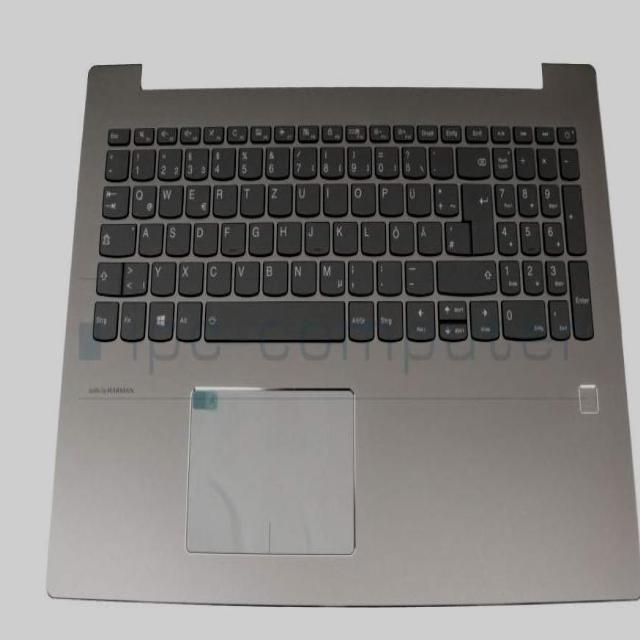0: (373, 144, 398, 177)
1: (130, 146, 155, 179)
2: (156, 146, 181, 179)
3: (183, 146, 208, 179)
4: (210, 145, 235, 179)
5: (237, 145, 262, 178)
6: (264, 145, 289, 178)
7: (291, 144, 316, 177)
8: (318, 144, 343, 177)
9: (345, 144, 371, 177)
a: (138, 219, 163, 255)
accent: (428, 144, 453, 177)
ae: (415, 218, 442, 254)
alt-left: (175, 298, 202, 340)
altgr-right: (346, 298, 374, 341)
b: (261, 257, 287, 295)
c: (204, 258, 231, 295)
caret: (104, 147, 127, 179)
comma: (346, 257, 372, 294)
d: (192, 219, 217, 255)
del: (455, 144, 490, 177)
e: (184, 182, 209, 216)
enter: (461, 179, 494, 254)
f: (220, 219, 245, 255)
g: (247, 218, 273, 254)
h: (275, 218, 301, 254)
hash: (443, 219, 469, 253)
i: (322, 181, 347, 215)
j: (303, 218, 329, 254)
k: (331, 218, 357, 254)
keyboard: (87, 116, 601, 357)
l: (359, 218, 385, 254)
less: (122, 259, 148, 295)
m: (318, 257, 344, 294)
minus: (403, 257, 433, 294)
n: (289, 257, 316, 294)
o: (348, 181, 375, 214)
oe: (387, 218, 413, 254)
p: (377, 181, 402, 215)
plus: (432, 180, 458, 215)
point: (374, 258, 401, 294)
q: (131, 182, 156, 216)
r: (211, 182, 236, 215)
s: (164, 219, 190, 255)
shift-left: (94, 261, 121, 294)
shift-lock: (97, 221, 136, 255)
shift-right: (435, 257, 496, 294)
space: (203, 298, 345, 341)
ss: (401, 144, 426, 177)
strg-left: (91, 298, 117, 339)
strg-right: (374, 297, 403, 341)
t: (239, 182, 264, 215)
tab: (100, 184, 129, 218)
u: (294, 181, 319, 215)
ue: (405, 181, 430, 215)
v: (233, 258, 258, 294)
w: (158, 182, 182, 215)
x: (177, 260, 202, 294)
y: (149, 259, 175, 295)
z: (267, 182, 292, 215)
